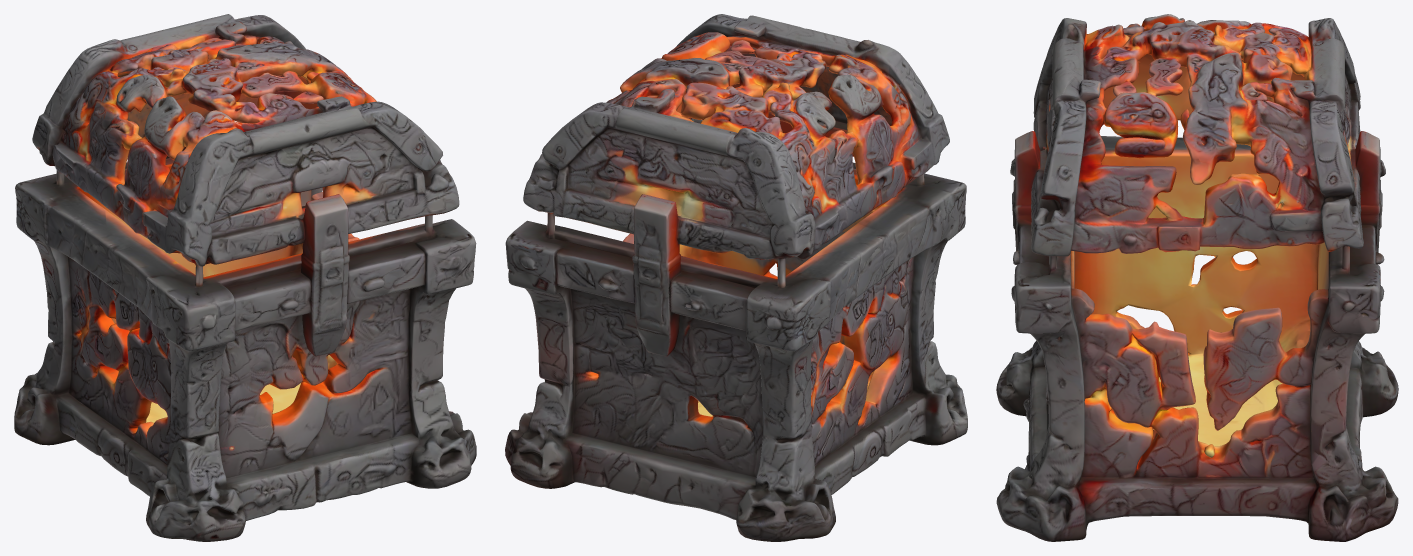
The model's file is prop-chest-lava.glb.
The picture shows the model from 3 angles, left to right: view 1: azimuth 30°, elevation 25°; view 2: azimuth 150°, elevation 25°; view 3: azimuth 270°, elevation 25°; orthographic projection. The views are drawn at different scales.
Visible parts, largest first — view 1: tripo_node_5c8ef85d-8f1e-403c-b9e1-bcfead29f47a; view 2: tripo_node_5c8ef85d-8f1e-403c-b9e1-bcfead29f47a; view 3: tripo_node_5c8ef85d-8f1e-403c-b9e1-bcfead29f47a.
Boxes of the visible parts, x1,y1,x2,y2 form: tripo_node_5c8ef85d-8f1e-403c-b9e1-bcfead29f47a: [14, 14, 476, 541]; tripo_node_5c8ef85d-8f1e-403c-b9e1-bcfead29f47a: [505, 14, 967, 541]; tripo_node_5c8ef85d-8f1e-403c-b9e1-bcfead29f47a: [996, 14, 1398, 541].
Size of the model in its own units: 0.8591 by 1 by 0.8784.
1 material, 1 textured.
